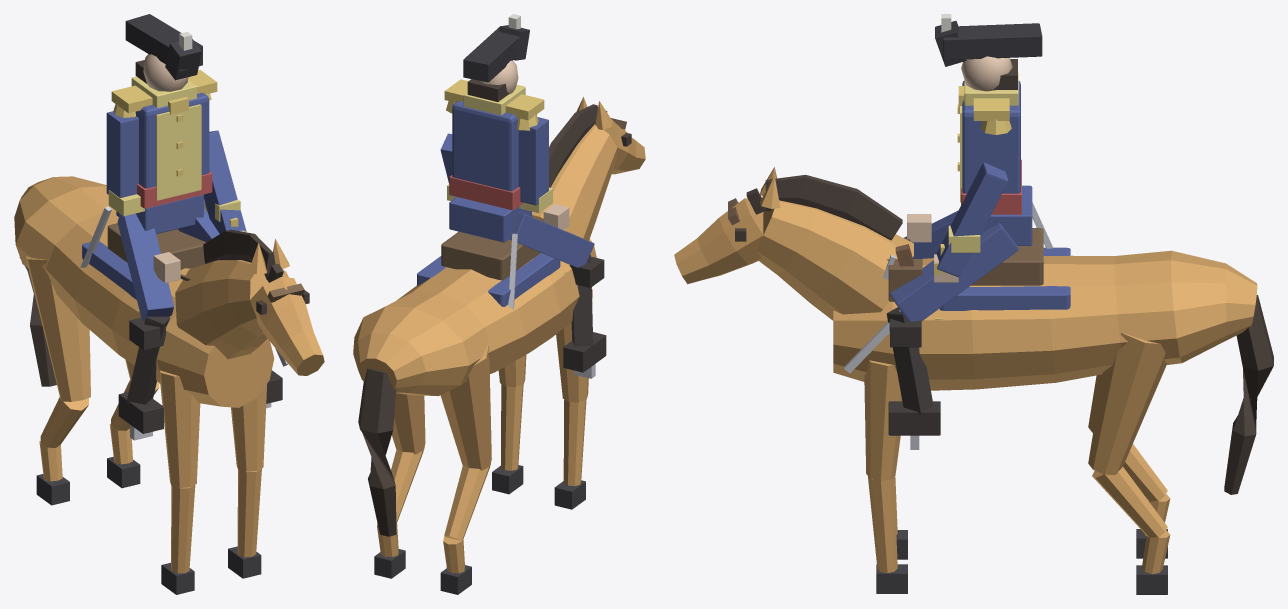
File: officer_hero.glb
3 views of the same model, side by side, from view 1: azimuth 30°, elevation 25°; view 2: azimuth 150°, elevation 25°; view 3: azimuth 270°, elevation 25° (orthographic). The views are drawn at different scales.
Visible parts, largest first — view 1: body, neck, bga-0.19, head, plastron, ffa-0.18, thigh-1, Larm, torso, ffa0.18, Rarm, ffc0.18 (+28 smaller); view 2: body, torso, neck, tail, bga-0.19, saddle, thigh-1, Larm, seat, bicorne, shab, bga0.19 (+27 smaller); view 3: body, neck, bga0.19, head, tail, thigh1, mane, ffa0.18, torso, bicorne, Rarm, shab (+15 smaller).
Boxes of the visible parts, x1,y1,x2,y2 form: body: (14, 176, 274, 407); neck: (175, 260, 288, 359); bga-0.19: (26, 256, 90, 401); head: (250, 277, 324, 375); plastron: (156, 104, 201, 200); ffa-0.18: (160, 370, 200, 487); thigh-1: (117, 213, 173, 321); Larm: (106, 111, 138, 197); torso: (135, 92, 209, 188); ffa0.18: (231, 384, 266, 471); Rarm: (204, 130, 246, 233); ffc0.18: (237, 468, 261, 557); body: (353, 239, 596, 396); torso: (452, 101, 536, 191); neck: (532, 124, 617, 240); tail: (358, 368, 396, 536); bga-0.19: (440, 343, 491, 470); saddle: (441, 231, 540, 280); thigh-1: (509, 212, 594, 268); Larm: (518, 117, 548, 205); seat: (449, 197, 531, 242); bicorne: (463, 26, 519, 82); shab: (417, 253, 560, 306); bga0.19: (392, 393, 425, 454); body: (833, 250, 1257, 390); neck: (756, 200, 913, 320); bga0.19: (1088, 332, 1166, 474); head: (674, 198, 763, 284); tail: (1224, 295, 1273, 494); thigh1: (889, 223, 1019, 321); mane: (765, 174, 902, 240); ffa0.18: (864, 360, 902, 480); torso: (962, 81, 1020, 193); bicorne: (943, 23, 1042, 60); Rarm: (936, 162, 1008, 277); shab: (939, 247, 1070, 310).
Bounding box in the file's own units: 0.7685 × 2.72 × 2.65.
